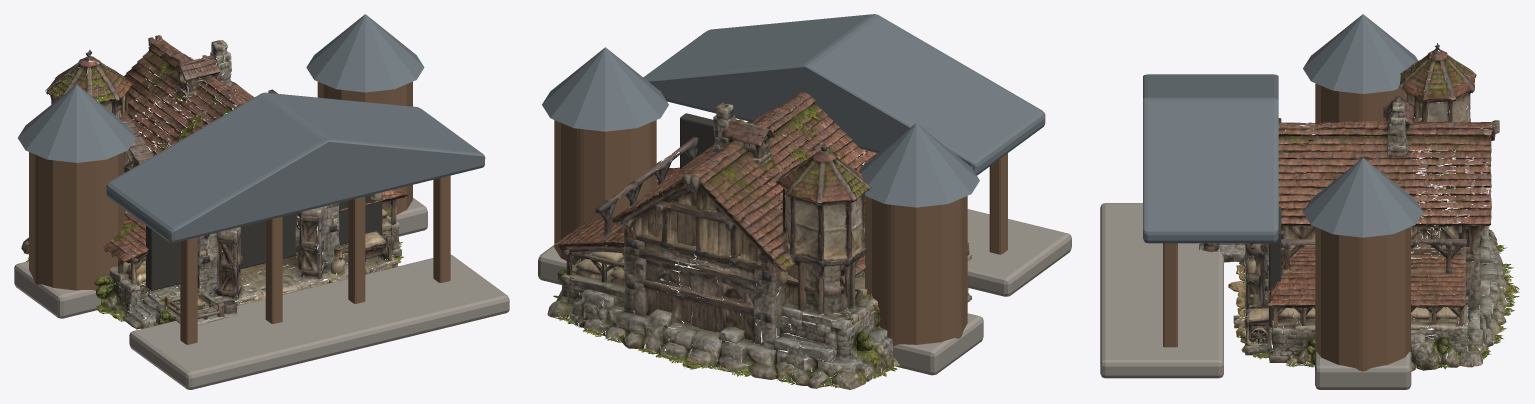
File: Valoria_Granero_CFSv1.glb
3 renders of one model, left to right at view 1: azimuth 30°, elevation 25°; view 2: azimuth 150°, elevation 25°; view 3: azimuth 270°, elevation 25°, orthographic. The views are drawn at different scales.
Visible parts, largest first — view 1: Granero · dominant loading canopy, Granero core · rich 00, Granero · loading apron, Granero · grain bin body, Granero · grain bin roof.001, Granero · grain bin roof, Granero · bin stone foot, Granero · canopy timber.002, Granero · canopy timber, Granero · canopy timber.003, Granero · canopy timber.001, Granero · deep loading mouth (+4 smaller); view 2: Granero core · rich 00, Granero · dominant loading canopy, Granero · grain bin body, Granero · grain bin body.001, Granero · grain bin roof.001, Granero · grain bin roof, Granero · loading apron, Granero · bin stone foot, Granero · canopy timber, Granero · deep loading mouth.002, Granero · bin stone foot.001; view 3: Granero core · rich 00, Granero · dominant loading canopy, Granero · loading apron, Granero · grain bin body.001, Granero · grain bin roof.001, Granero · grain bin roof, Granero · grain bin body, Granero · bin stone foot.001, Granero · canopy timber.003, Granero · deep loading mouth.002.
Boxes of the visible parts, x1,y1,x2,y2 form: Granero · dominant loading canopy: (106, 92, 485, 242); Granero core · rich 00: (21, 35, 408, 329); Granero · loading apron: (129, 255, 509, 389); Granero · grain bin body: (29, 152, 124, 290); Granero · grain bin roof.001: (306, 14, 424, 92); Granero · grain bin roof: (18, 84, 135, 162); Granero · bin stone foot: (14, 261, 139, 318); Granero · canopy timber.002: (348, 196, 365, 303); Granero · canopy timber: (180, 237, 197, 344); Granero · canopy timber.003: (433, 175, 450, 282); Granero · canopy timber.001: (265, 216, 282, 323); Granero · deep loading mouth: (146, 225, 208, 290); Granero core · rich 00: (547, 92, 972, 389); Granero · dominant loading canopy: (643, 14, 1045, 175); Granero · grain bin body: (865, 196, 967, 345); Granero · grain bin body.001: (554, 120, 656, 264); Granero · grain bin roof.001: (542, 47, 668, 131); Granero · grain bin roof: (858, 123, 979, 207); Granero · loading apron: (762, 185, 1071, 296); Granero · bin stone foot: (856, 313, 983, 375); Granero · canopy timber: (989, 153, 1007, 254); Granero · deep loading mouth.002: (680, 113, 736, 191); Granero · bin stone foot.001: (538, 245, 615, 290); Granero core · rich 00: (1199, 43, 1519, 371); Granero · dominant loading canopy: (1143, 74, 1278, 243); Granero · loading apron: (1100, 203, 1223, 378); Granero · grain bin body.001: (1315, 227, 1410, 371); Granero · grain bin roof.001: (1303, 158, 1423, 237); Granero · grain bin roof: (1303, 14, 1418, 93); Granero · grain bin body: (1315, 83, 1408, 183); Granero · bin stone foot.001: (1315, 351, 1411, 389); Granero · canopy timber.003: (1163, 243, 1177, 347); Granero · deep loading mouth.002: (1269, 206, 1281, 326).
Size of the model in its own units: 5.5 by 2.82 by 5.02.
Materials: 5 (1 with a texture image).
